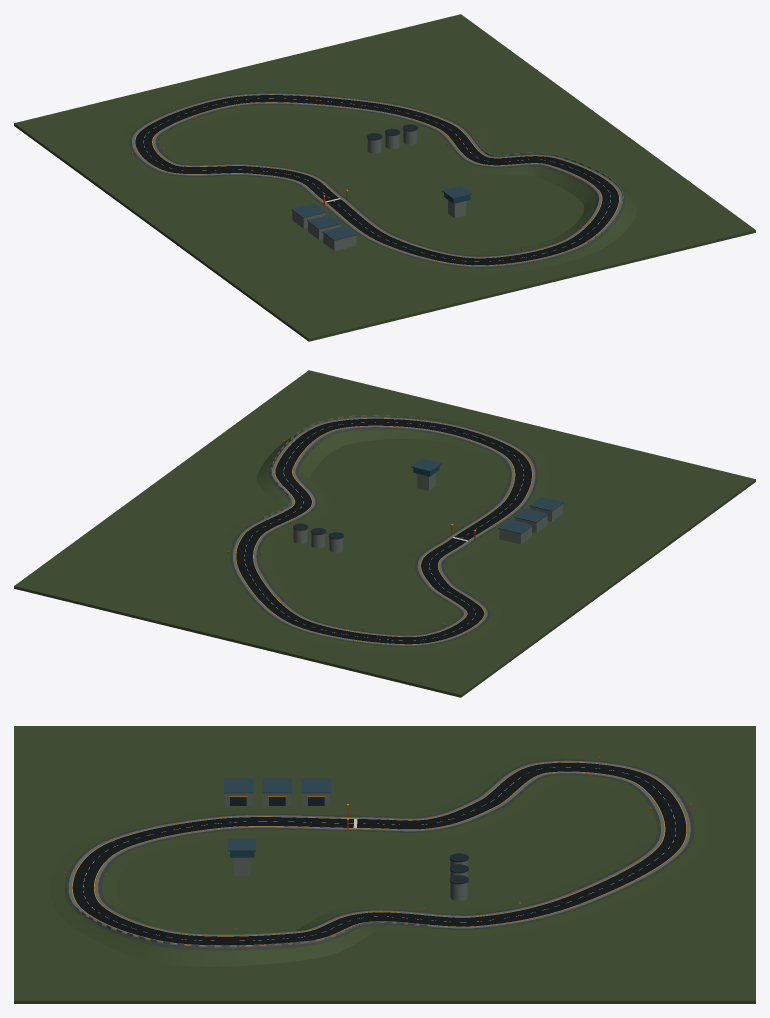
Rendered from industrial_test_track.obj.
3 views of the same model, one above another, from view 1: azimuth 30°, elevation 25°; view 2: azimuth 150°, elevation 25°; view 3: azimuth 270°, elevation 25° (orthographic). The views are drawn at different scales.
Parts seen in each view (by area): view 1: Site_foundation_Cube.001, Circuit_and_graded_runoff_Continuous_driving_surface; view 2: Site_foundation_Cube.001, Circuit_and_graded_runoff_Continuous_driving_surface; view 3: Site_foundation_Cube.001, Circuit_and_graded_runoff_Continuous_driving_surface, Garage_roof_Cube.003, Garage_roof.001_Cube.007, Garage_roof.002_Cube.011.
Part boxes in pixels (x1=…): Site_foundation_Cube.001: x1=14, y1=14, x2=755, y2=341; Circuit_and_graded_runoff_Continuous_driving_surface: x1=117, y1=87, x2=637, y2=273; Site_foundation_Cube.001: x1=14, y1=370, x2=755, y2=697; Circuit_and_graded_runoff_Continuous_driving_surface: x1=218, y1=416, x2=550, y2=652; Site_foundation_Cube.001: x1=14, y1=726, x2=755, y2=1003; Circuit_and_graded_runoff_Continuous_driving_surface: x1=50, y1=753, x2=709, y2=966; Garage_roof_Cube.003: x1=301, y1=778, x2=331, y2=793; Garage_roof.001_Cube.007: x1=262, y1=778, x2=292, y2=793; Garage_roof.002_Cube.011: x1=223, y1=778, x2=253, y2=793.
Size of the model in its own units: 350 by 18.8 by 400.
